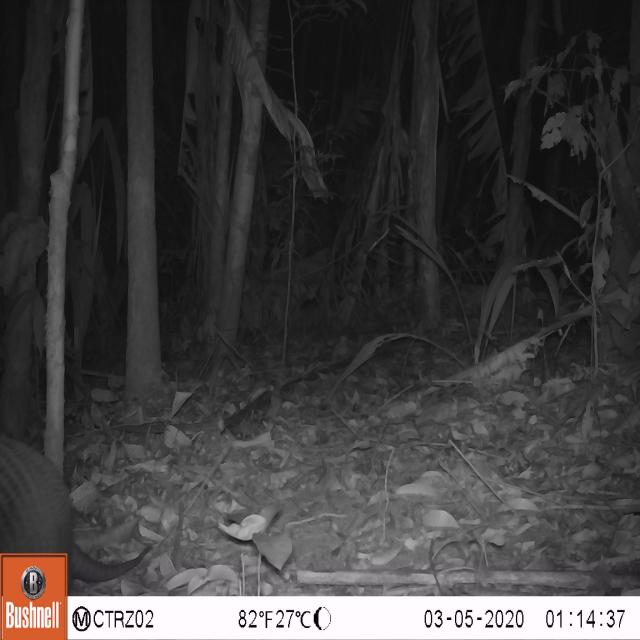Armadillo: (0, 414, 165, 587)
